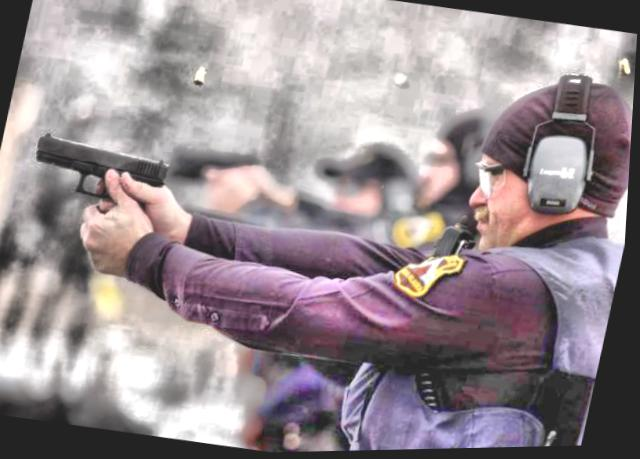pistol: (18, 119, 187, 238)
